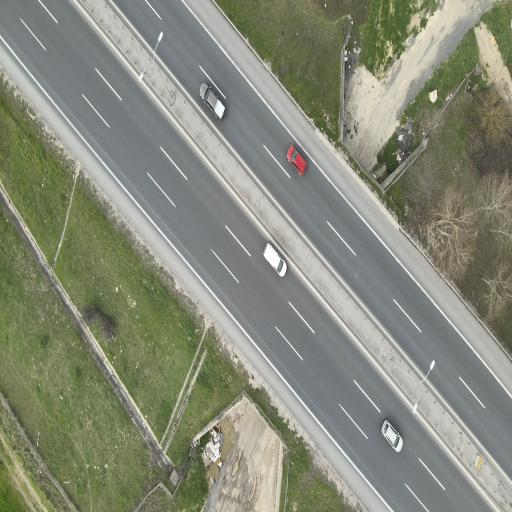car: (200, 83, 225, 119), (264, 243, 286, 276), (382, 421, 403, 452), (287, 146, 306, 175)
